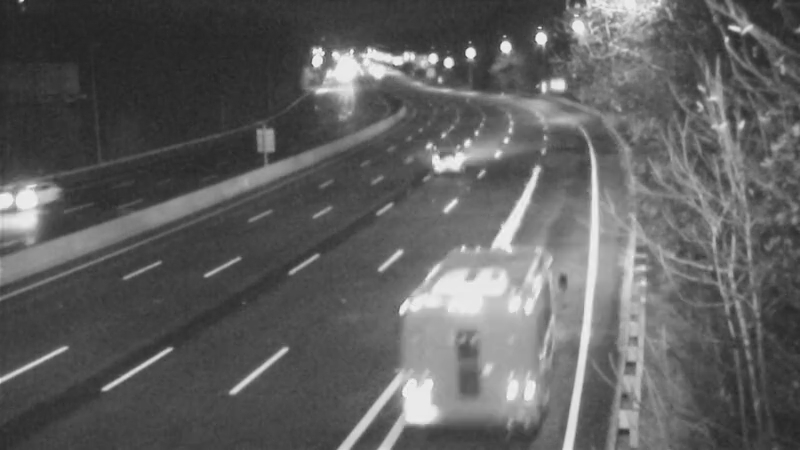vehicle: (414, 270, 524, 380), (409, 120, 489, 200), (1, 159, 78, 239)
